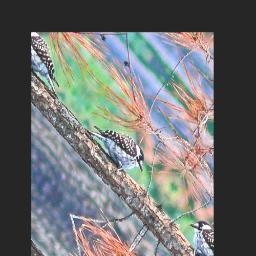Woodpecker: (76, 97, 157, 197)
